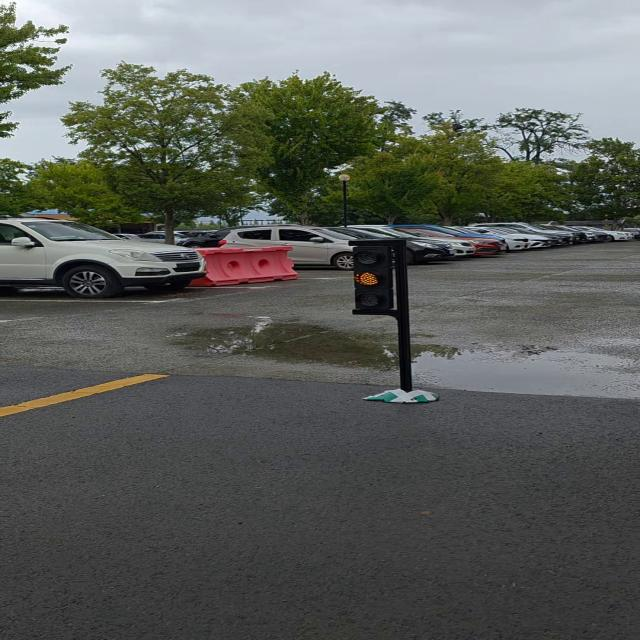yellow: (348, 240, 400, 318)
